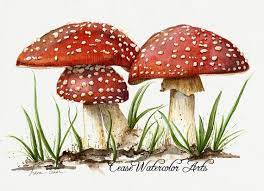Amanita muscaria: (14, 19, 142, 172), (128, 25, 249, 164)
